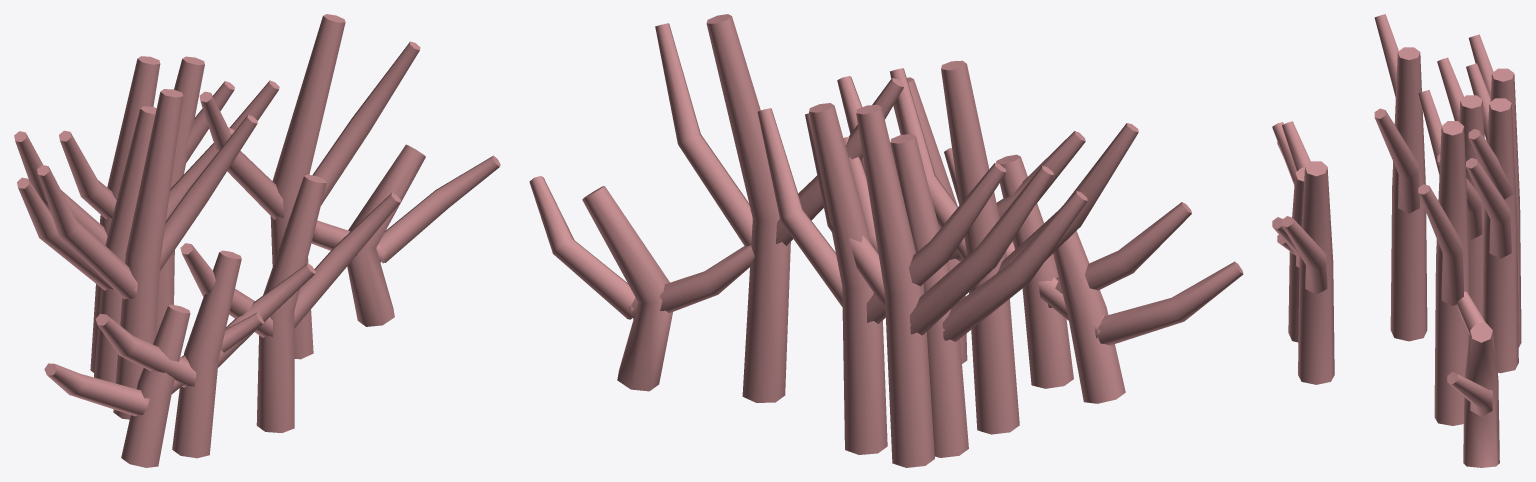
File: coral_pink.glb
The picture shows the model from 3 angles, left to right: view 1: azimuth 30°, elevation 25°; view 2: azimuth 150°, elevation 25°; view 3: azimuth 270°, elevation 25°; orthographic projection. The views are drawn at different scales.
Visible parts, largest first — view 1: coral_pink; view 2: coral_pink; view 3: coral_pink.
Part boxes in pixels (x1,y1,x2,y2): coral_pink: (14, 14, 500, 467); coral_pink: (529, 14, 1243, 467); coral_pink: (1272, 14, 1521, 467).
Size of the model in its own units: 2.07 by 1.2 by 0.86.
